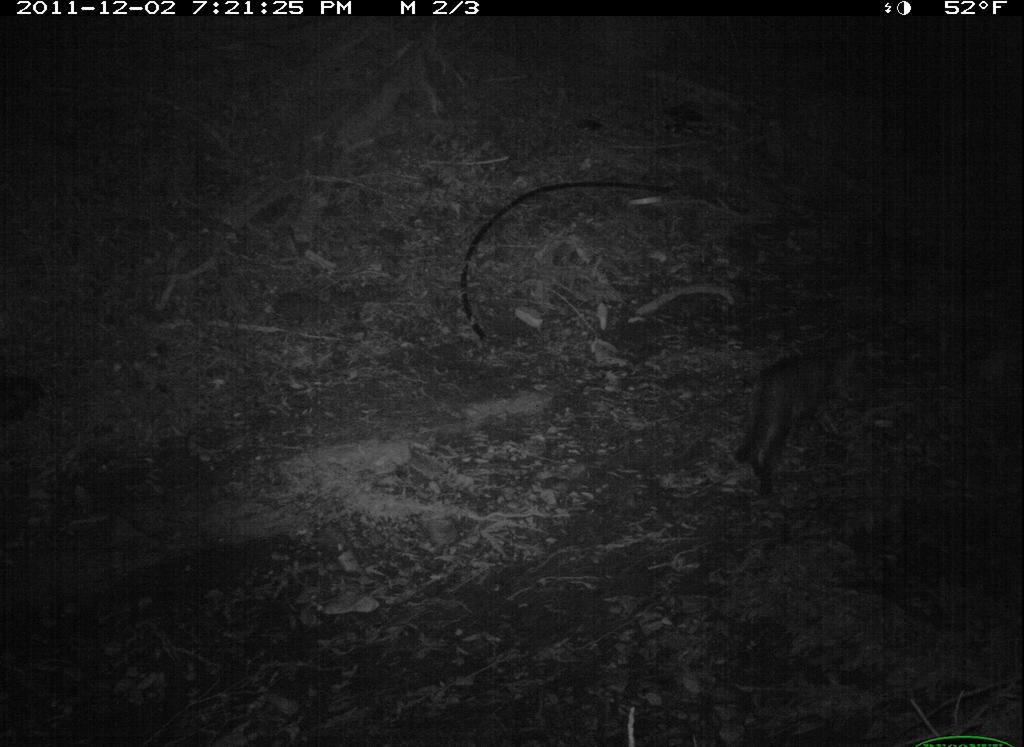cat: (732, 328, 865, 498)
